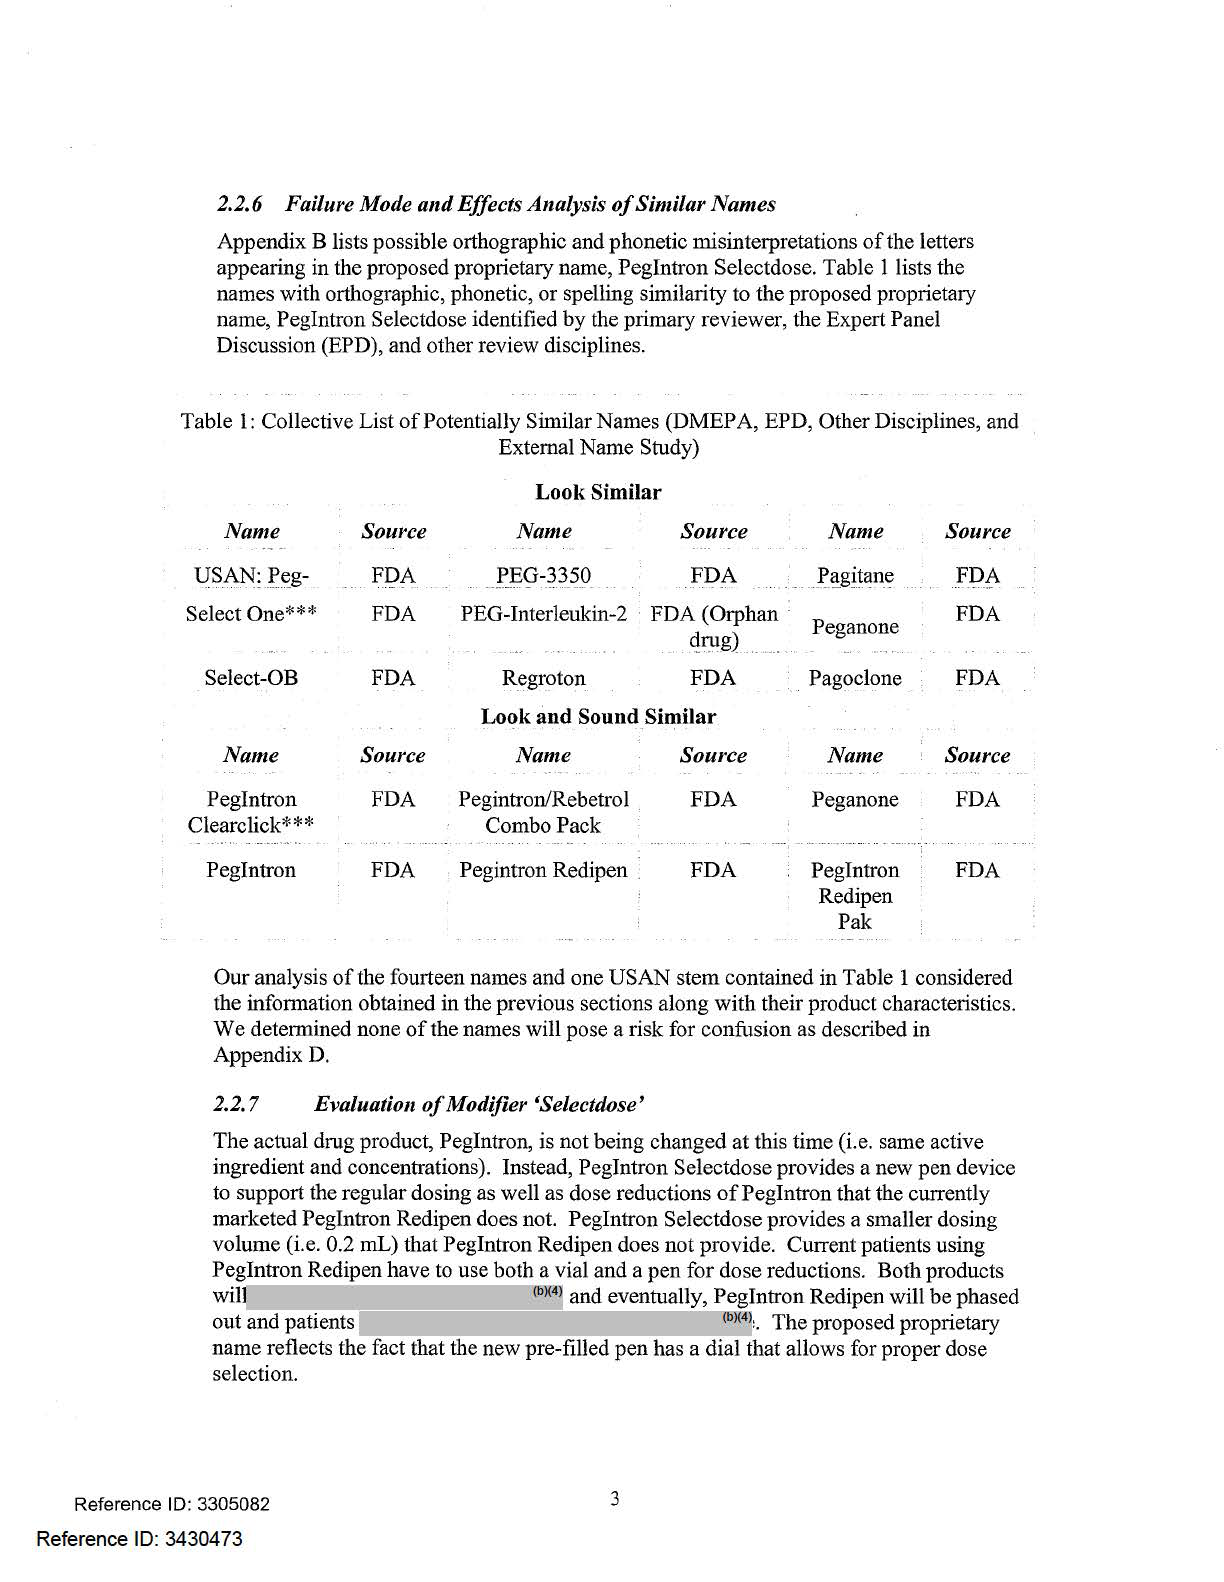nolines: (180, 512, 1013, 936)
